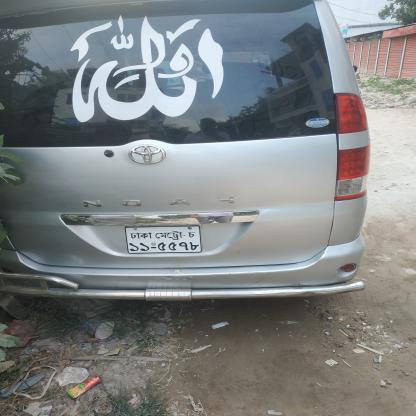license_plate: (117, 226, 208, 253)
